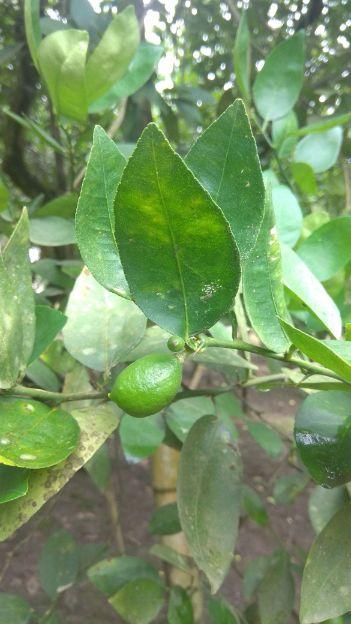Myzus persicae: (201, 280, 228, 300)
